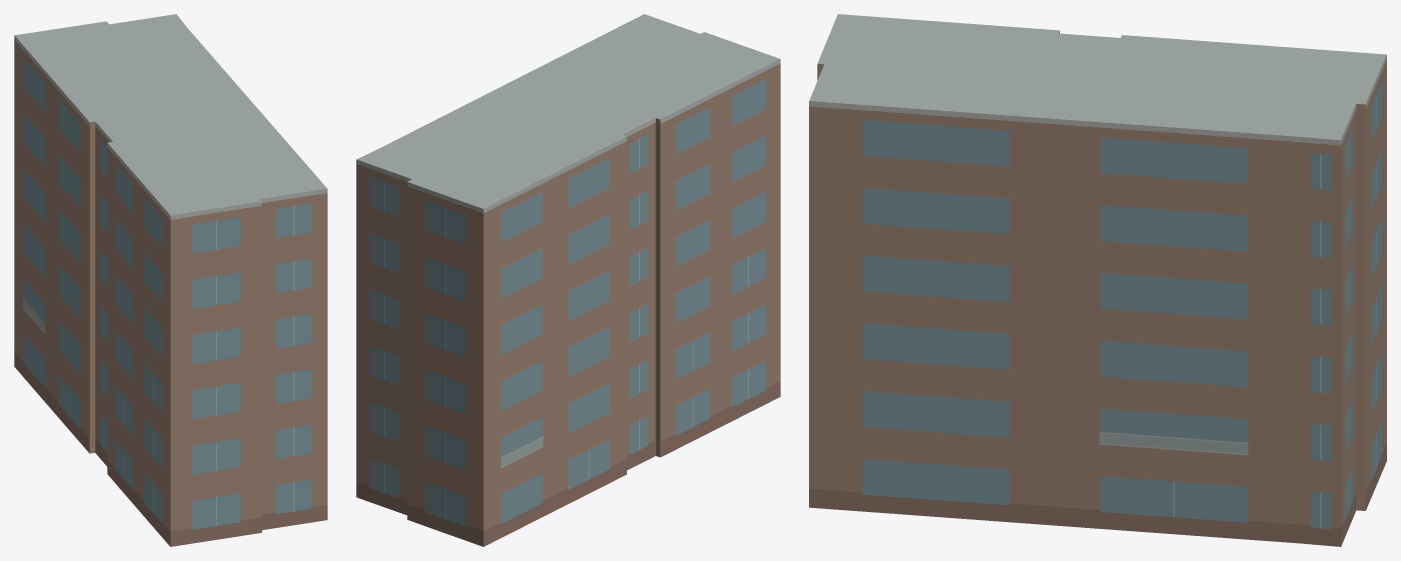
Rendered from survey-upis-33007339.glb.
The picture shows the model from 3 angles, left to right: view 1: azimuth 30°, elevation 25°; view 2: azimuth 150°, elevation 25°; view 3: azimuth 270°, elevation 25°; orthographic projection. The views are drawn at different scales.
Parts seen in each view (by area): view 1: survey-upis-33007339.tmp; view 2: survey-upis-33007339.tmp; view 3: survey-upis-33007339.tmp.
Boxes of the visible parts, x1=… form: survey-upis-33007339.tmp: x1=14, y1=14, x2=327, y2=546; survey-upis-33007339.tmp: x1=356, y1=14, x2=780, y2=546; survey-upis-33007339.tmp: x1=809, y1=14, x2=1386, y2=546.
Bounding box in the file's own units: 12.41 × 18.6 × 23.96.
